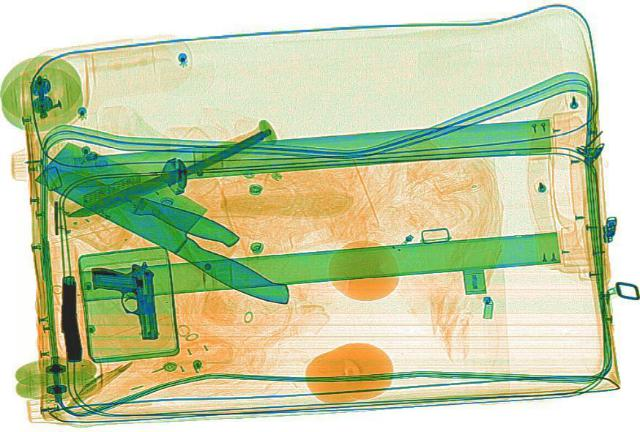Gun: (88, 260, 160, 339), (55, 274, 83, 359)
Knife: (13, 140, 330, 306), (28, 150, 245, 250), (63, 128, 277, 222)
